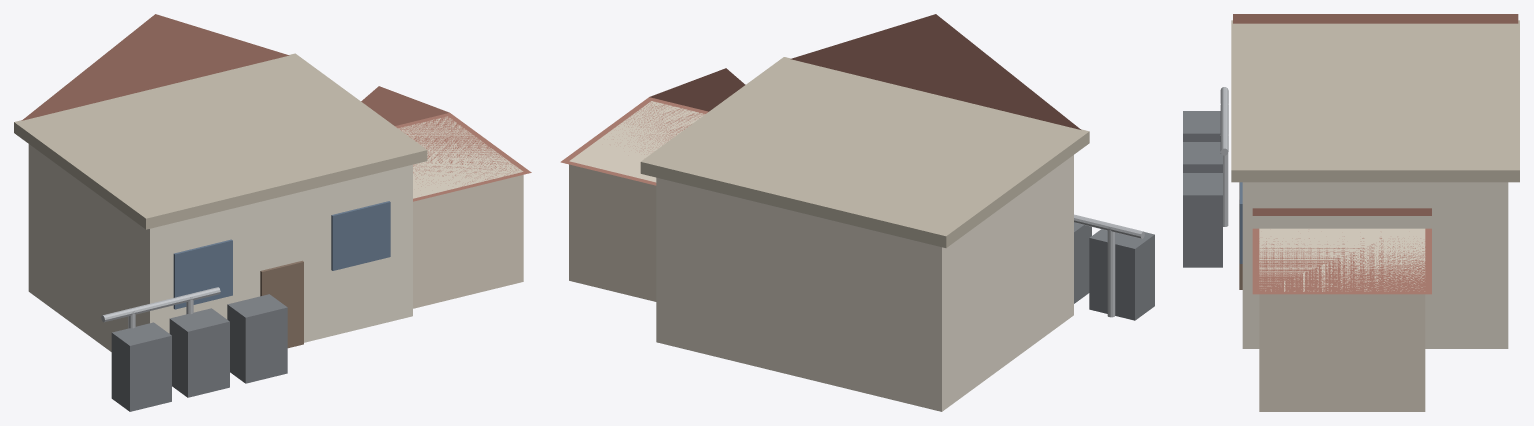
File: microgrid_hub.glb
The picture shows the model from 3 angles, left to right: view 1: azimuth 30°, elevation 25°; view 2: azimuth 150°, elevation 25°; view 3: azimuth 270°, elevation 25°; orthographic projection. The views are drawn at different scales.
Visible parts, largest first — view 1: fascia, main_wall, annex_wall, main_roof, annex_roof, cabinet, cabinet_3, cabinet_2, window_2, window, door, conduit_run; view 2: main_wall, fascia, annex_wall, main_roof, cabinet, annex_roof, cabinet_2, conduit, conduit_run; view 3: fascia, annex_wall, main_wall, annex_roof, cabinet_3, main_roof, cabinet_2, cabinet, conduit_run, conduit_2, window_2.
Boxes of the visible parts, x1,y1,x2,y2 form: fascia: [14, 53, 427, 229]; main_wall: [28, 144, 412, 351]; annex_wall: [398, 116, 523, 308]; main_roof: [21, 14, 289, 120]; annex_roof: [361, 86, 531, 201]; cabinet: [111, 322, 171, 411]; cabinet_3: [227, 294, 287, 383]; cabinet_2: [169, 308, 229, 397]; window_2: [331, 201, 390, 270]; window: [173, 239, 232, 309]; door: [260, 260, 303, 348]; conduit_run: [101, 287, 220, 322]; main_wall: [656, 155, 1073, 411]; fascia: [640, 57, 1089, 247]; annex_wall: [569, 101, 705, 301]; main_roof: [790, 14, 1080, 129]; cabinet: [1089, 229, 1154, 320]; annex_roof: [560, 68, 745, 185]; cabinet_2: [1074, 222, 1091, 303]; conduit: [1107, 227, 1115, 317]; conduit_run: [1074, 214, 1144, 238]; fascia: [1231, 20, 1519, 182]; annex_wall: [1259, 228, 1425, 411]; main_wall: [1242, 182, 1508, 348]; annex_roof: [1252, 208, 1431, 294]; cabinet_3: [1183, 173, 1222, 267]; main_roof: [1233, 14, 1518, 23]; cabinet_2: [1183, 142, 1222, 172]; cabinet: [1183, 111, 1220, 141]; conduit_run: [1220, 87, 1228, 155]; conduit_2: [1220, 135, 1228, 226]; window_2: [1239, 182, 1242, 263].
Bounding box in the file's own units: 16.8 × 8.8 × 10.15.
